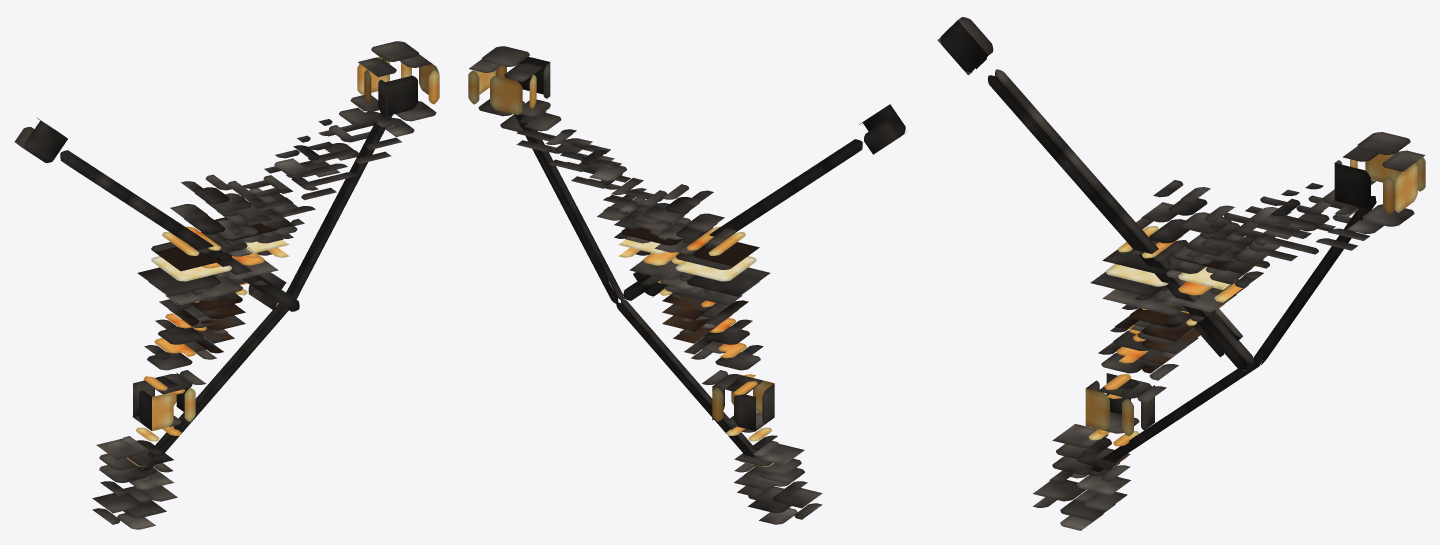
Rendered from bellows_bow_pulling_0.obj.
The picture shows the model from 3 angles, left to right: view 1: azimuth 30°, elevation 25°; view 2: azimuth 150°, elevation 25°; view 3: azimuth 330°, elevation 25°; orthographic projection. The views are drawn at different scales.
Parts seen in each view (by area): view 1: lit, fire; view 2: lit, fire; view 3: lit, fire.
Part boxes in pixels (bbox=[...]): lit: bbox=[14, 41, 439, 529]; fire: bbox=[122, 95, 394, 481]; lit: bbox=[468, 46, 906, 524]; fire: bbox=[519, 99, 779, 456]; lit: bbox=[937, 17, 1425, 530]; fire: bbox=[1070, 180, 1375, 478].
Bounding box in the file's own units: 1.19 × 1.19 × 0.1625.
